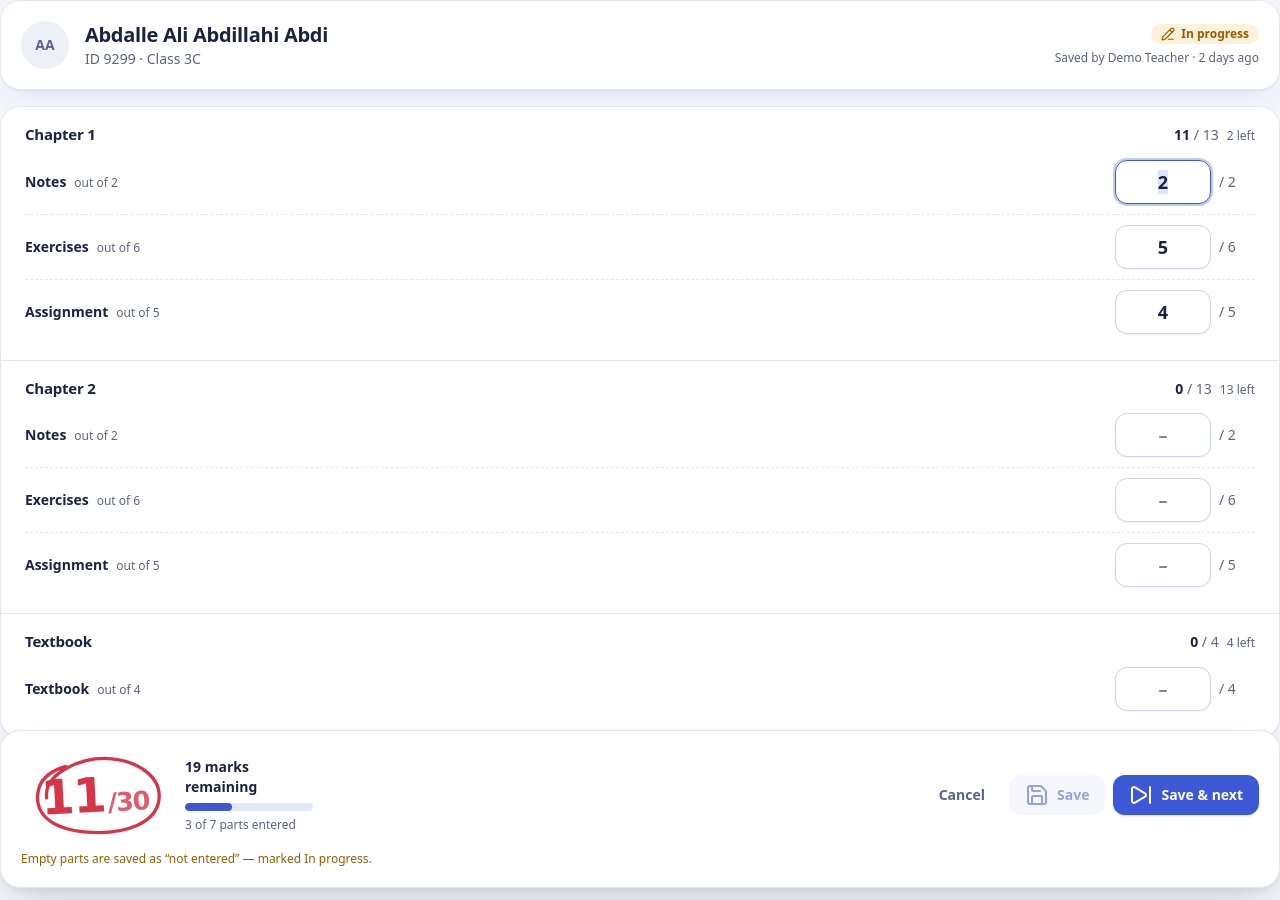
Test: MarkSheet › shows server-side field errors next to the right input
Type "4" into the field labelled "Textbook" at (1163, 688), box [1115,666,1211,710]
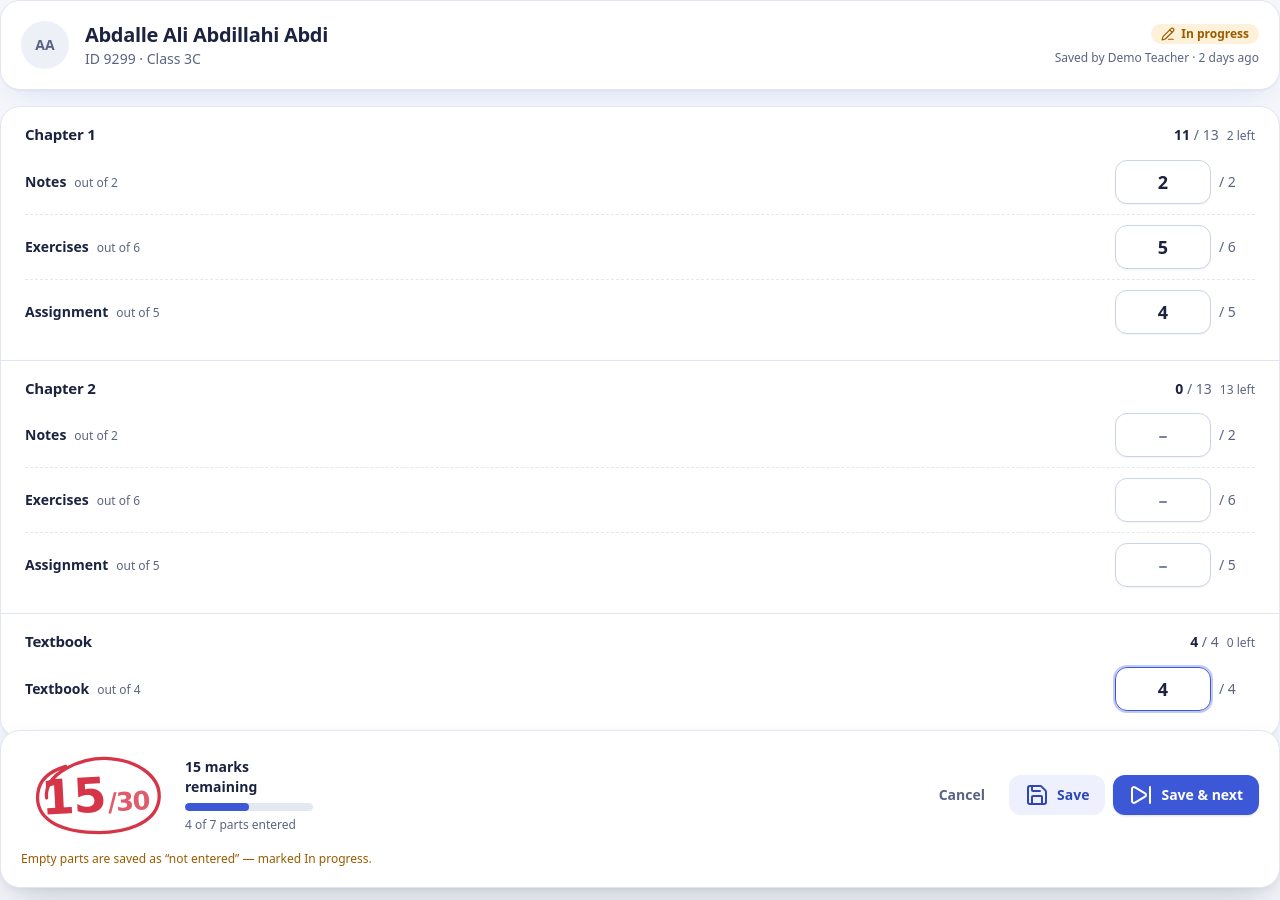
Click the button "Save" at (1057, 795), box [1009,775,1105,815]
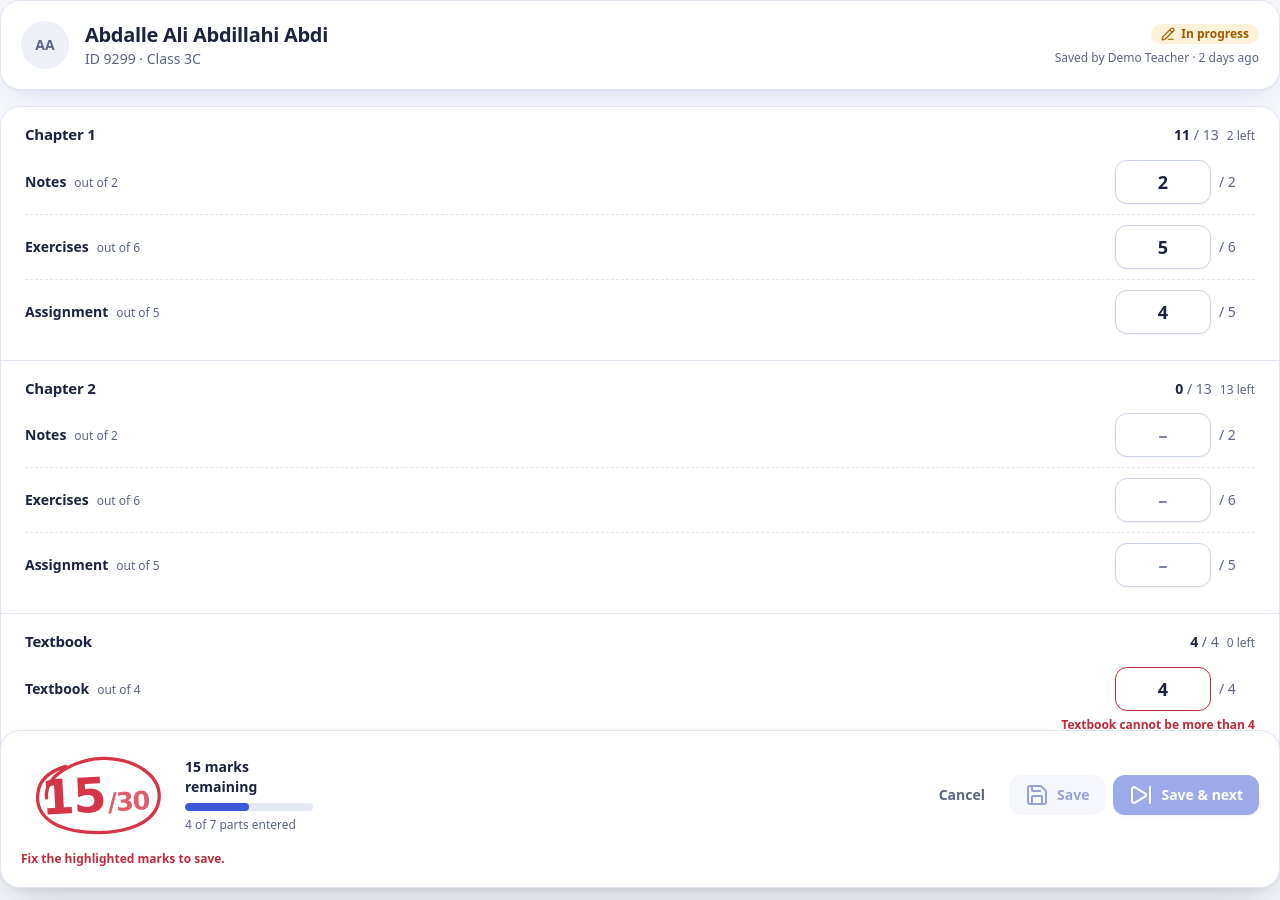
Result: the text "Textbook cannot be more than 4" is shown at [1061,716,1255,732]
